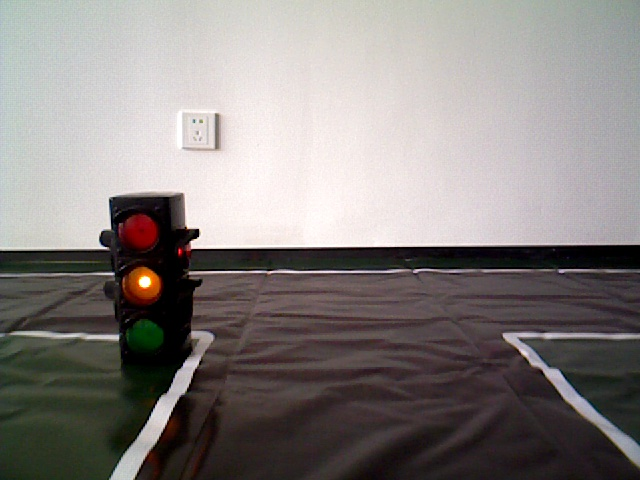yellow: (104, 189, 197, 359)
